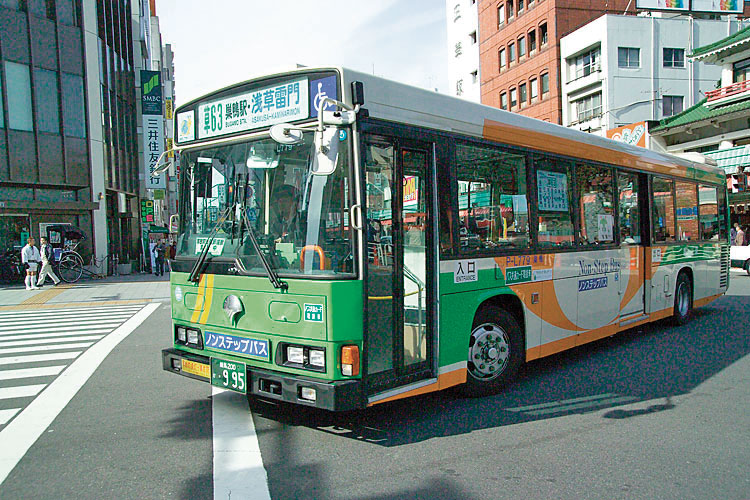bus: (160, 65, 733, 414)
